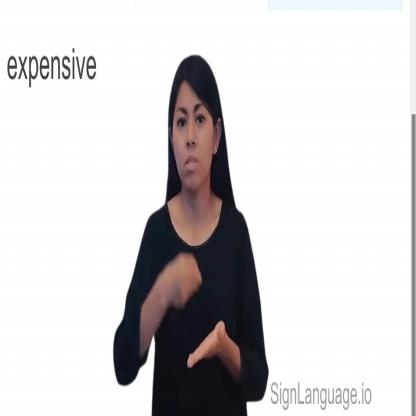Expensive: (150, 233, 236, 402)
